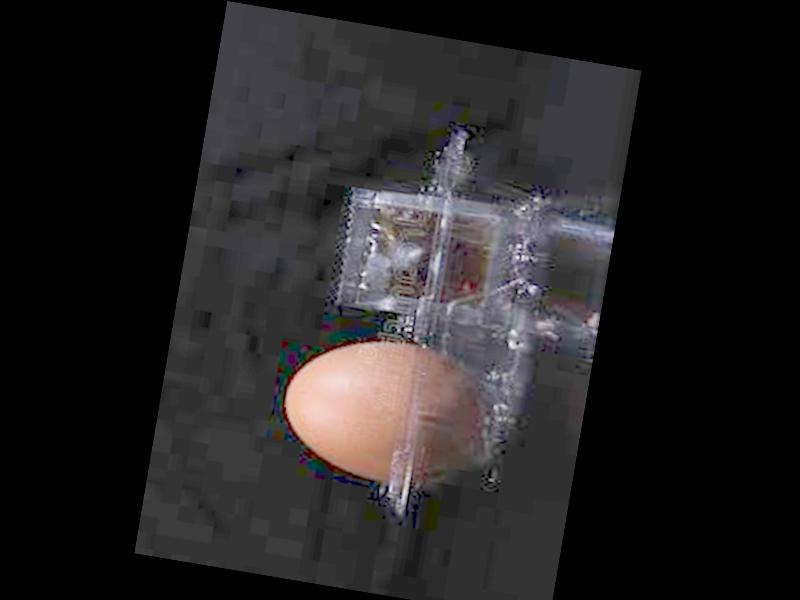Eggs: (275, 327, 502, 500)
